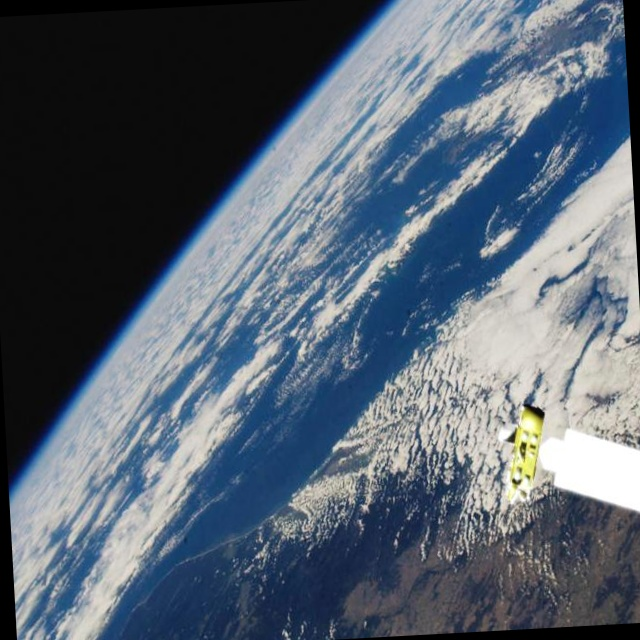satellite: (491, 398, 640, 527)
